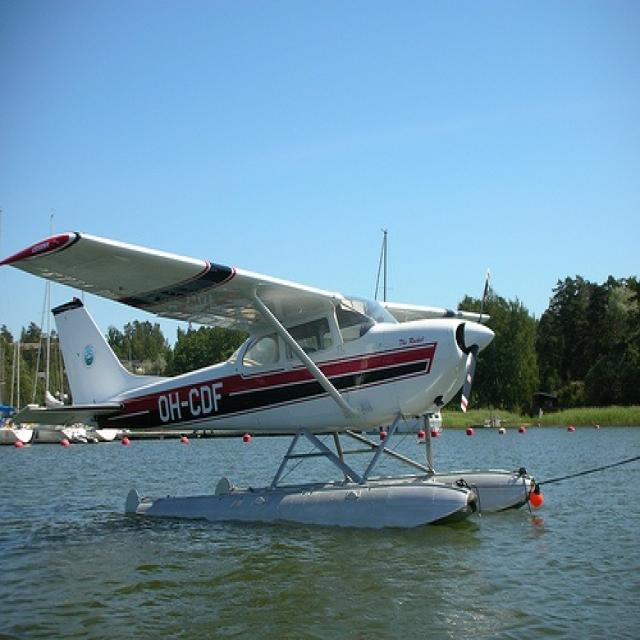aeroplane: (4, 215, 562, 567)
boat: (2, 340, 30, 442)
